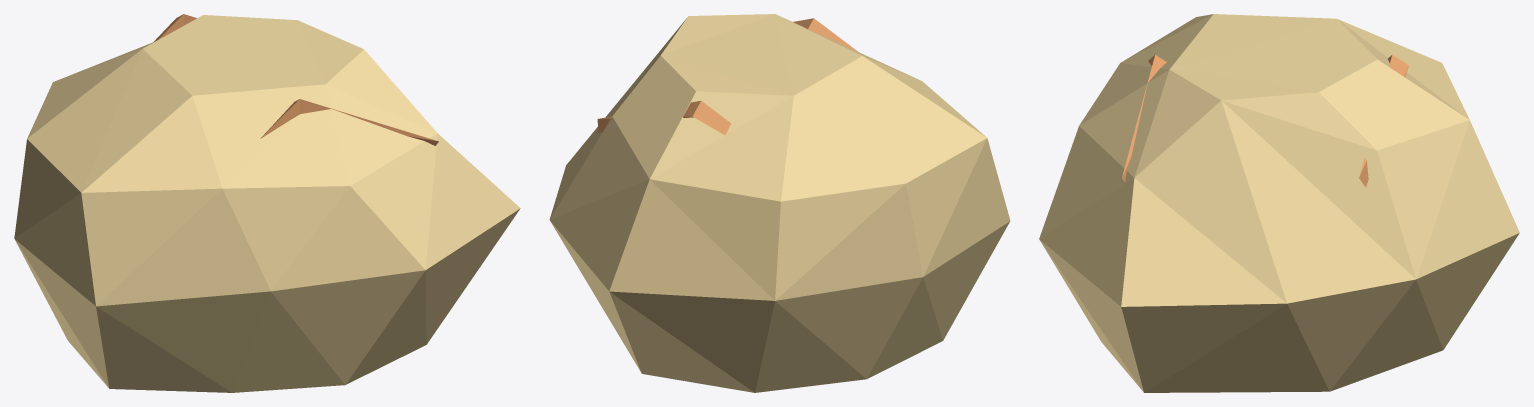
Rendered from aq_coral_brain.fbx.
3 views of the same model, side by side, from view 1: azimuth 30°, elevation 25°; view 2: azimuth 150°, elevation 25°; view 3: azimuth 270°, elevation 25° (orthographic). The views are drawn at different scales.
Parts seen in each view (by area): view 1: aq_coral_brain; view 2: aq_coral_brain; view 3: aq_coral_brain.
Part boxes in pixels (bbox=[...]): aq_coral_brain: bbox=[14, 14, 520, 392]; aq_coral_brain: bbox=[549, 14, 1010, 392]; aq_coral_brain: bbox=[1039, 14, 1519, 392].
Bounding box in the file's own units: 0.7 × 0.45 × 0.7.
